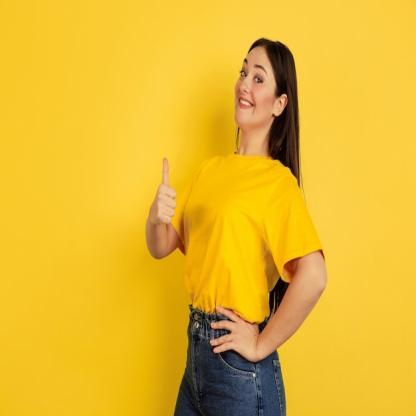thumb_up: (148, 154, 177, 226)
